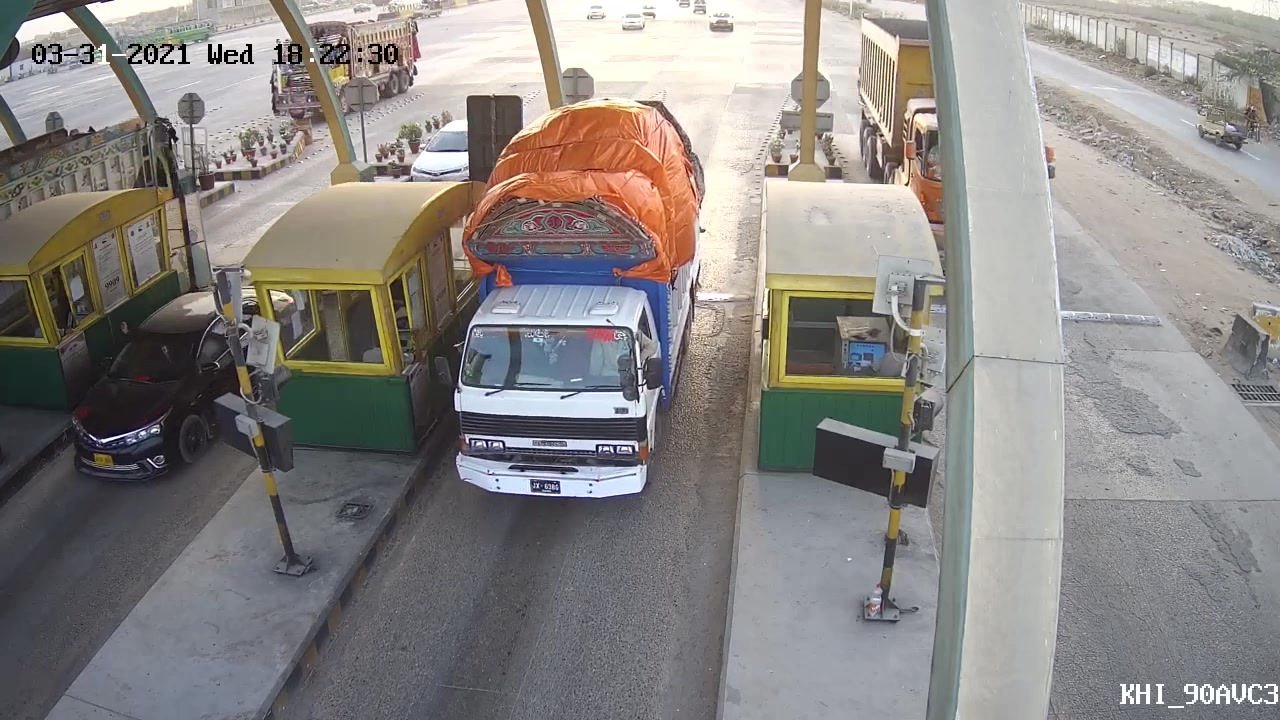F5: (430, 95, 711, 516)
